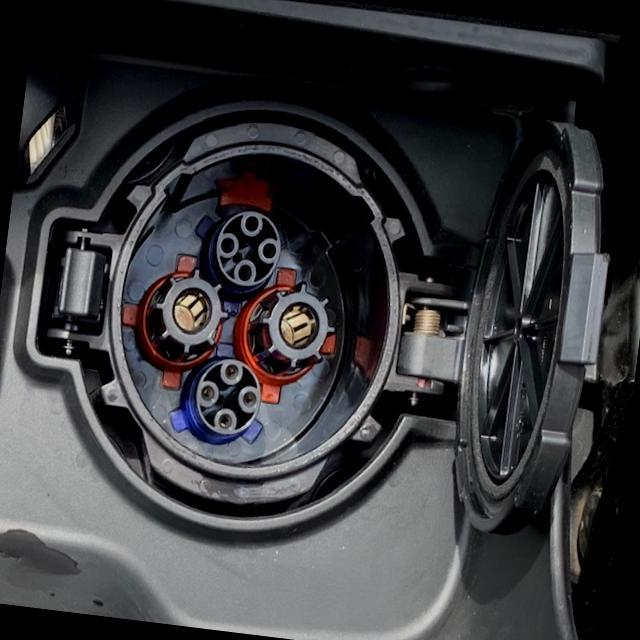CHAdeMO: (80, 168, 392, 467)
